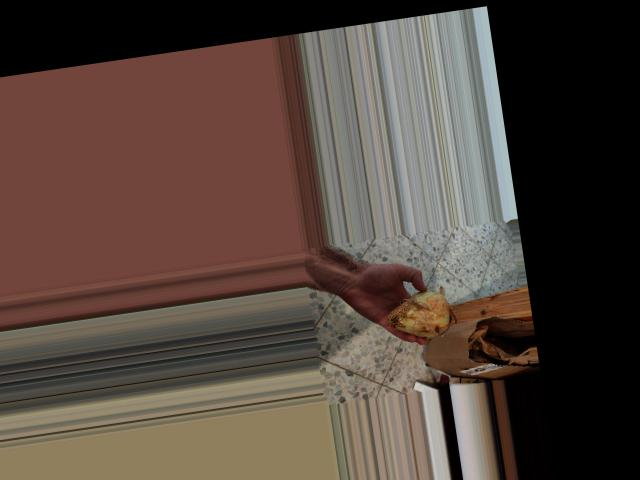onion: (382, 287, 459, 344)
